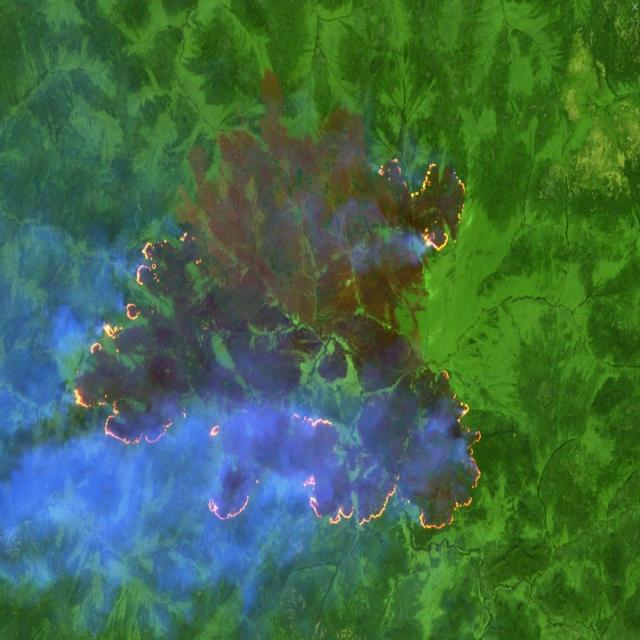fire: (70, 153, 486, 540)
